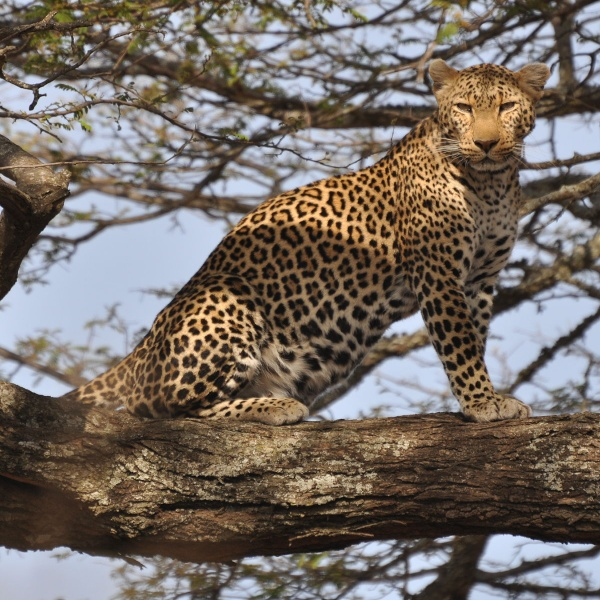Leopard: (60, 54, 550, 426)
